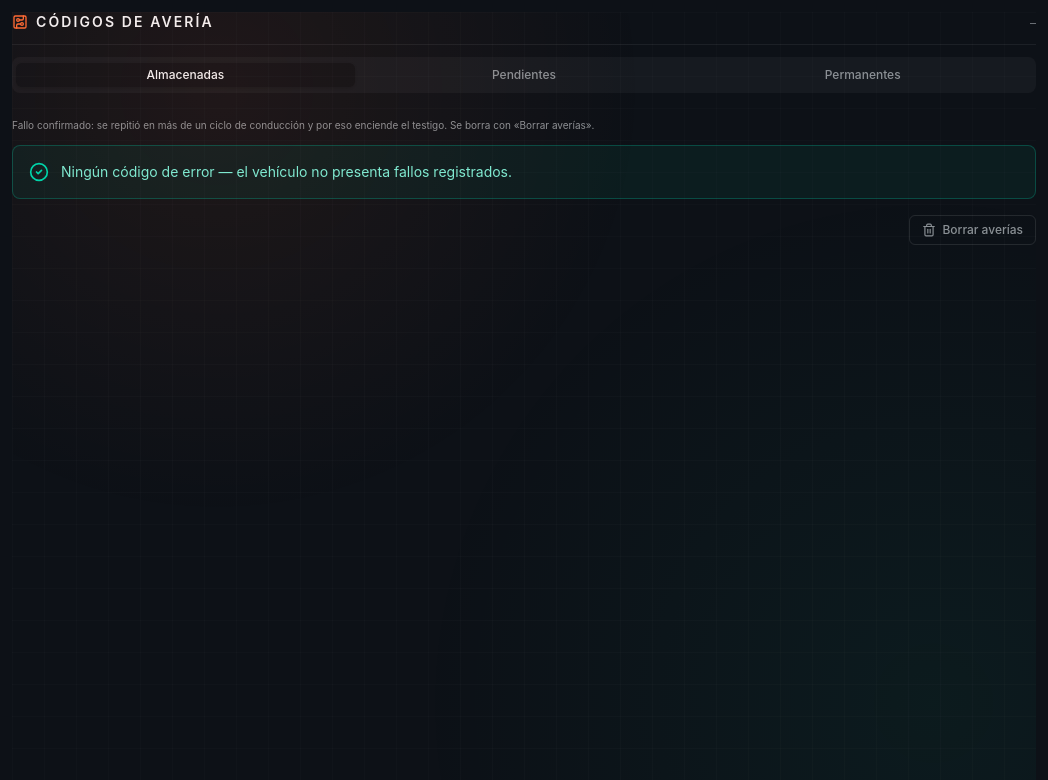
Test: DtcPanel › should show 'Ninguna' in pending and permanent tabs when there are no codes
Click the tab "Pendientes" at (524, 75), box x1=355 y1=63 x2=693 y2=87
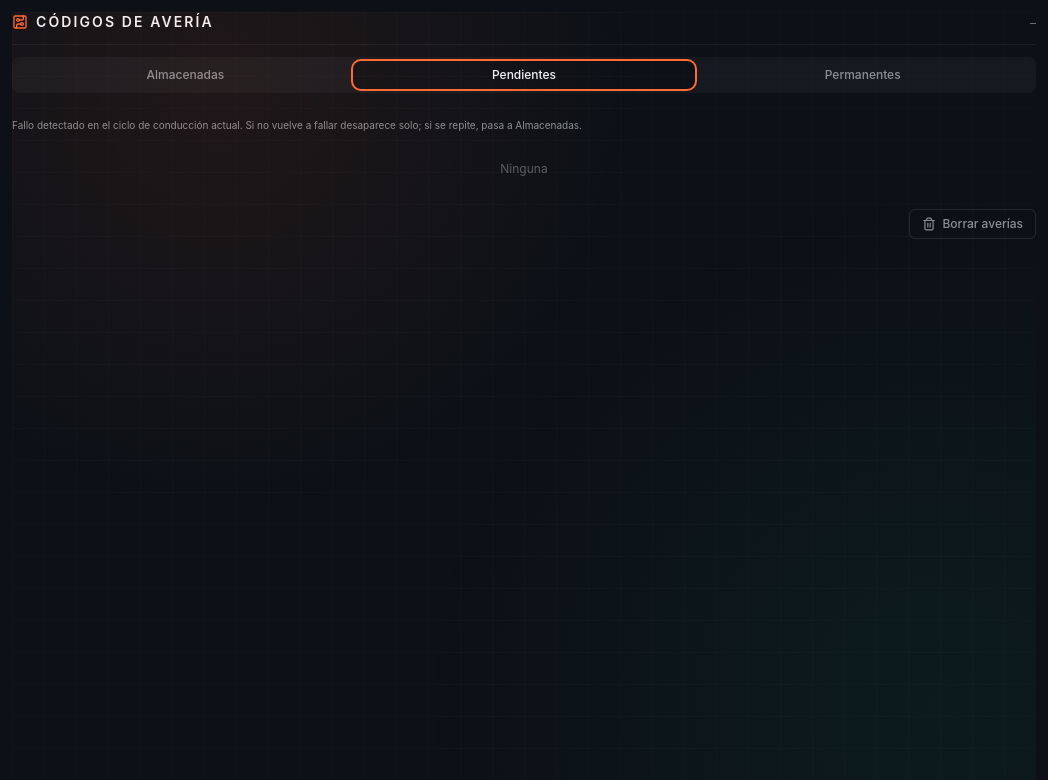
Check: the text "Ninguna" is shown, box x1=500 y1=161 x2=548 y2=176
